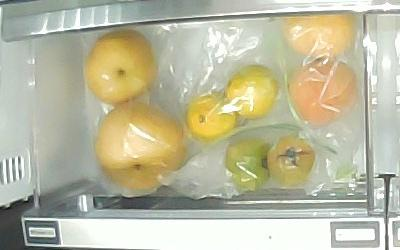peach_vinyl: (289, 56, 358, 125), (281, 14, 354, 58)
pear_vinyl: (96, 101, 186, 191), (85, 30, 161, 105)
tangerine_vinyl: (224, 66, 278, 119), (186, 94, 236, 142)
tomato_vinyl: (268, 136, 314, 186), (225, 138, 271, 188)
